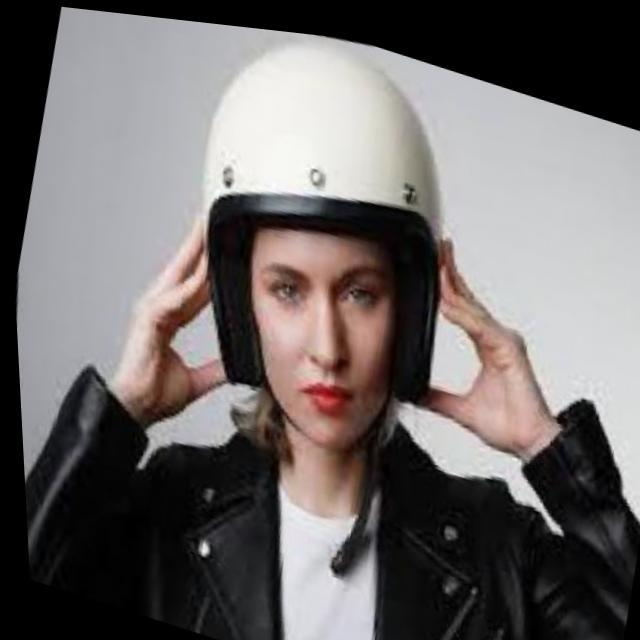Helmet: (182, 21, 460, 462)
